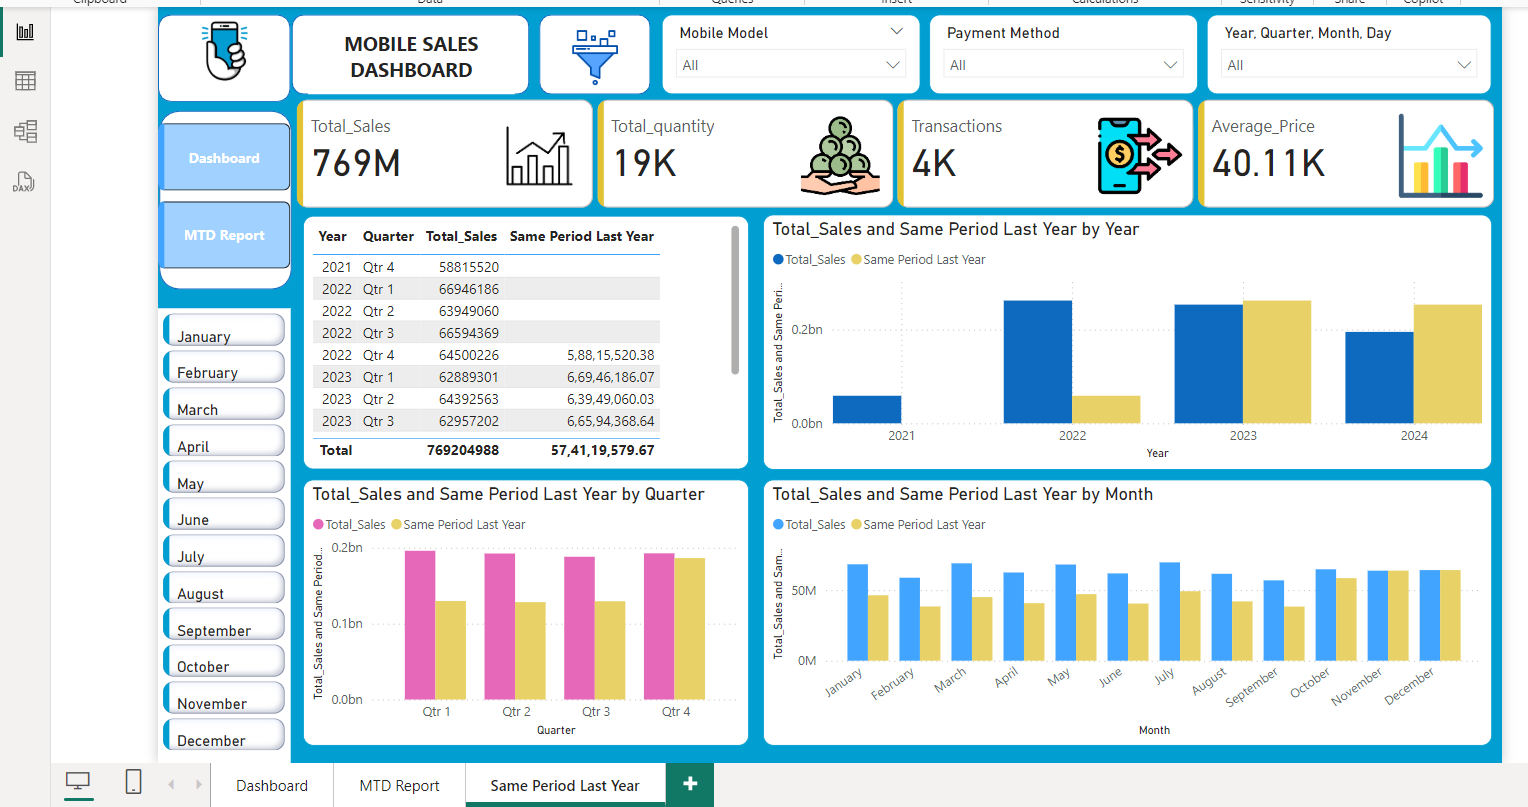

The dashboard page shown, as its layout file describes it:
{"tool":"powerbi","page":{"name":"Same Period Last Year","canvas":[1280,720],"ordinal":2},"visuals":[{"type":"shape","box":[0,7.1,126.2,83.3],"z":0},{"type":"image","box":[15.5,0,95.2,83.3],"z":1000},{"type":"shape","box":[1.2,98.8,126.2,170.2],"z":2000},{"type":"cardVisual","fields":{"Data":["Mobile_Sales_data.Total_Sales","Mobile_Sales_data.Total_quantity","Mobile_Sales_data.Transactions","Mobile_Sales_data.Average_Price"]},"box":[127.4,83.3,1152.4,113.1],"z":3000},{"type":"slicer","fields":{"Values":["Mobile_Sales_data.Mobile Model"]},"box":[479.8,7.1,246.4,76.2],"z":4000},{"type":"slicer","fields":{"Values":["Mobile_Sales_data.Payment Method"]},"box":[734.5,7.1,256,76.2],"z":5000},{"type":"shape","box":[127.4,7.1,226.2,76.2],"z":6000},{"type":"slicer","fields":{"Values":["Custom_Calender.Date.Variation.Date Hierarchy.Year","Custom_Calender.Date.Variation.Date Hierarchy.Quarter","Custom_Calender.Date.Variation.Date Hierarchy.Month","Custom_Calender.Date.Variation.Date Hierarchy.Day"]},"box":[998.8,7.1,271.4,76.2],"z":7000},{"type":"shape","box":[363.1,7.1,106,76.2],"z":8000},{"type":"image","box":[353.6,16.7,126.2,63.1],"z":9000},{"type":"textbox","box":[142.9,16.7,196.4,66.7],"z":10000},{"type":"advancedSlicerVisual","fields":{"Values":["Custom_Calender.Date.Variation.Date Hierarchy.Month"]},"box":[0,286.7,126.2,433.3],"z":11000},{"type":"tableEx","fields":{"Values":["Custom_Calender.Date.Variation.Date Hierarchy.Year","Custom_Calender.Date.Variation.Date Hierarchy.Quarter","Mobile_Sales_data.Total_Sales","Mobile_Sales_data.Same Period Last Year"]},"box":[138.1,198.8,425,241.7],"z":12000},{"type":"clusteredColumnChart","fields":{"Category":["Custom_Calender.Date.Variation.Date Hierarchy.Year","Custom_Calender.Date.Variation.Date Hierarchy.Quarter"],"Y":["Mobile_Sales_data.Total_Sales","Mobile_Sales_data.Same Period Last Year"]},"box":[576.2,197.6,694.1,242.9],"z":13000},{"type":"clusteredColumnChart","fields":{"Y":["Mobile_Sales_data.Total_Sales","Mobile_Sales_data.Same Period Last Year"],"Category":["Custom_Calender.Date.Variation.Date Hierarchy.Month"]},"box":[576.2,450,694.1,253.6],"z":14000},{"type":"clusteredColumnChart","fields":{"Category":["Custom_Calender.Date.Variation.Date Hierarchy.Year","Custom_Calender.Date.Variation.Date Hierarchy.Quarter"],"Y":["Mobile_Sales_data.Total_Sales","Mobile_Sales_data.Same Period Last Year"]},"box":[138.1,450,425,253.6],"z":15000},{"type":"pageNavigator","box":[0,110.7,126.2,138.1],"z":16000}]}

Visuals, with their boxes on the page's 1280x720 design canvas (x1, y1, x2, y2). These are canvas units, not pixel positions in the 1528x807 screenshot, which may show the page scaled, cropped or inside an application window:
shape: [x1=0, y1=7, x2=126, y2=90]
image: [x1=16, y1=0, x2=111, y2=83]
shape: [x1=1, y1=99, x2=127, y2=269]
cardVisual - Mobile_Sales_data.Total_Sales x Mobile_Sales_data.Total_quantity: [x1=127, y1=83, x2=1280, y2=196]
slicer - Mobile_Sales_data.Mobile Model: [x1=480, y1=7, x2=726, y2=83]
slicer - Mobile_Sales_data.Payment Method: [x1=734, y1=7, x2=990, y2=83]
shape: [x1=127, y1=7, x2=354, y2=83]
slicer - Custom_Calender.Date.Variation.Date Hierarchy.Year x Custom_Calender.Date.Variation.Date Hierarchy.Quarter: [x1=999, y1=7, x2=1270, y2=83]
shape: [x1=363, y1=7, x2=469, y2=83]
image: [x1=354, y1=17, x2=480, y2=80]
textbox: [x1=143, y1=17, x2=339, y2=83]
advancedSlicerVisual - Custom_Calender.Date.Variation.Date Hierarchy.Month: [x1=0, y1=287, x2=126, y2=720]
tableEx - Custom_Calender.Date.Variation.Date Hierarchy.Year x Custom_Calender.Date.Variation.Date Hierarchy.Quarter: [x1=138, y1=199, x2=563, y2=440]
clusteredColumnChart - Custom_Calender.Date.Variation.Date Hierarchy.Year x Custom_Calender.Date.Variation.Date Hierarchy.Quarter: [x1=576, y1=198, x2=1270, y2=440]
clusteredColumnChart - Mobile_Sales_data.Total_Sales x Mobile_Sales_data.Same Period Last Year: [x1=576, y1=450, x2=1270, y2=704]
clusteredColumnChart - Custom_Calender.Date.Variation.Date Hierarchy.Year x Custom_Calender.Date.Variation.Date Hierarchy.Quarter: [x1=138, y1=450, x2=563, y2=704]
pageNavigator: [x1=0, y1=111, x2=126, y2=249]
